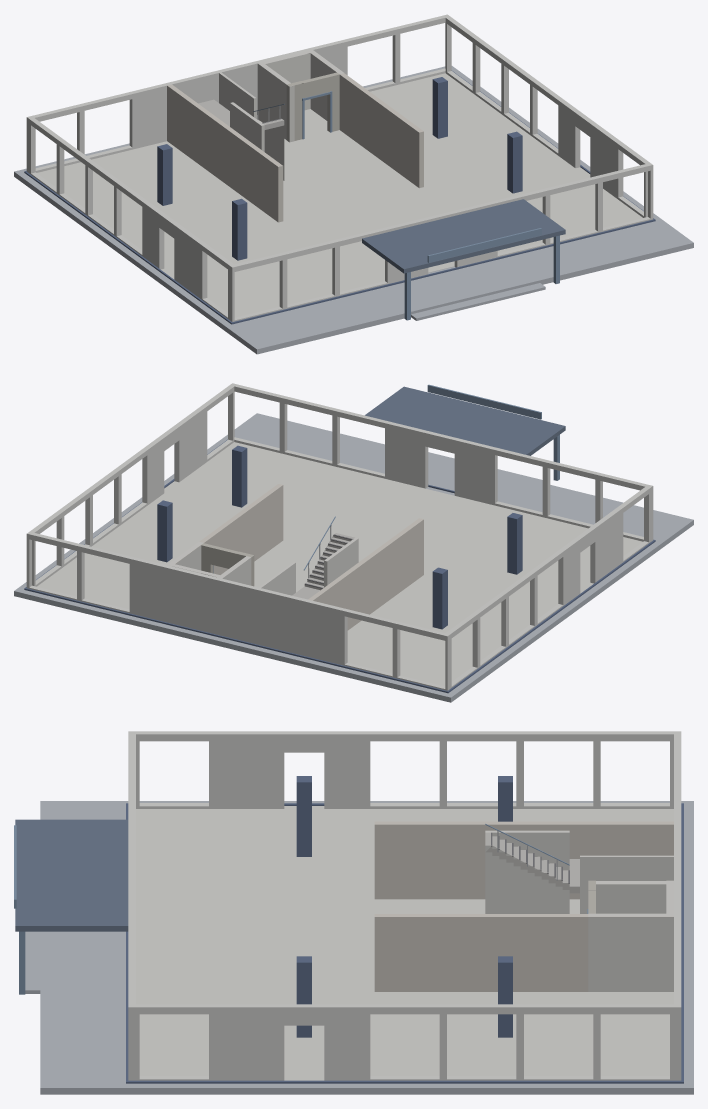
Rendered from office-lobby.zfix-v14.lod0.glb.
3 views of the same model, one above another, from view 1: azimuth 30°, elevation 25°; view 2: azimuth 150°, elevation 25°; view 3: azimuth 270°, elevation 25° (orthographic). The views are drawn at different scales.
Visible parts, largest first — view 1: office-lobby; view 2: office-lobby; view 3: office-lobby.
Boxes of the visible parts, bbox=[...] form: office-lobby: bbox=[14, 14, 693, 354]; office-lobby: bbox=[14, 383, 693, 702]; office-lobby: bbox=[14, 731, 693, 1094].
Size of the model in its own units: 27 by 4.89 by 27.05.
